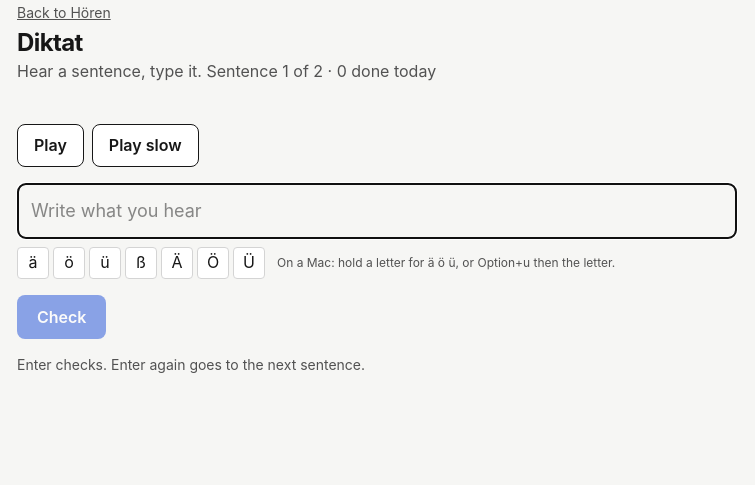
Test case: Diktat › keeps the result on screen when the refetch marks the sentence done
Expected: the text "Hear a sentence, type it. Sentence 1 of 2 · 0 done today" is shown, [17,59,436,84]
Type "Ich mochte" into the field labelled "Write what you hear" at (377, 211), box [17,183,737,239]
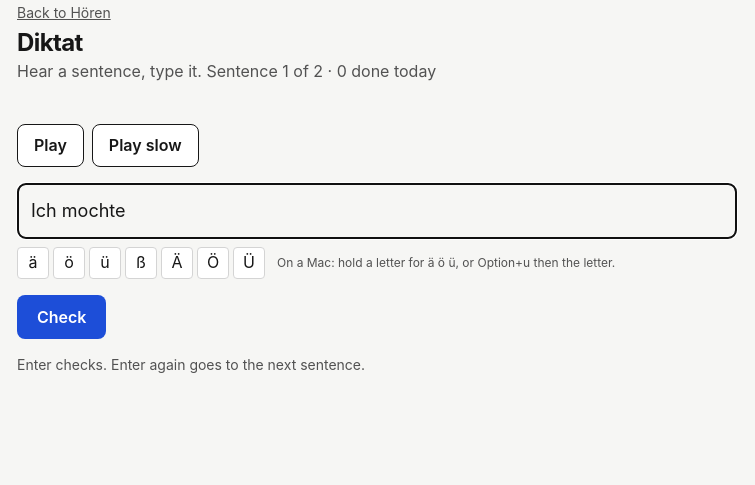
Click the button "Check" at (62, 317), box [17,295,106,339]
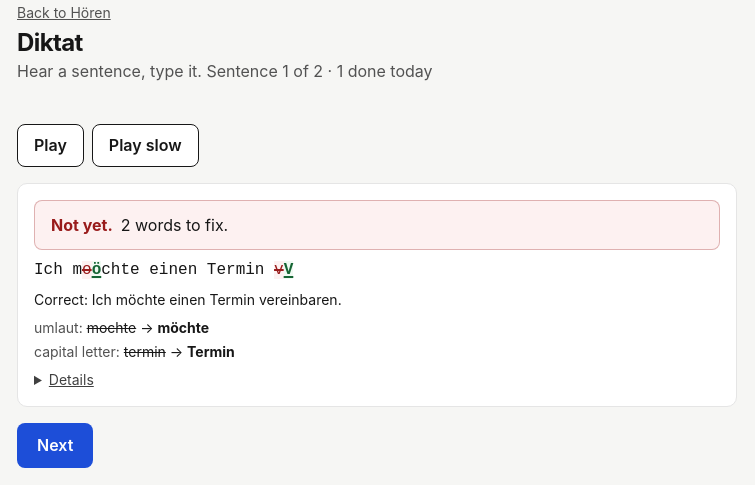
Expected: the text "Hear a sentence, type it. Sentence 1 of 2 · 1 done today" is shown, [17,59,433,84]
Expected: the text "2 words to fix." is shown, [121,215,228,235]
Click the button "Next" at (55, 446), box [17,423,93,468]
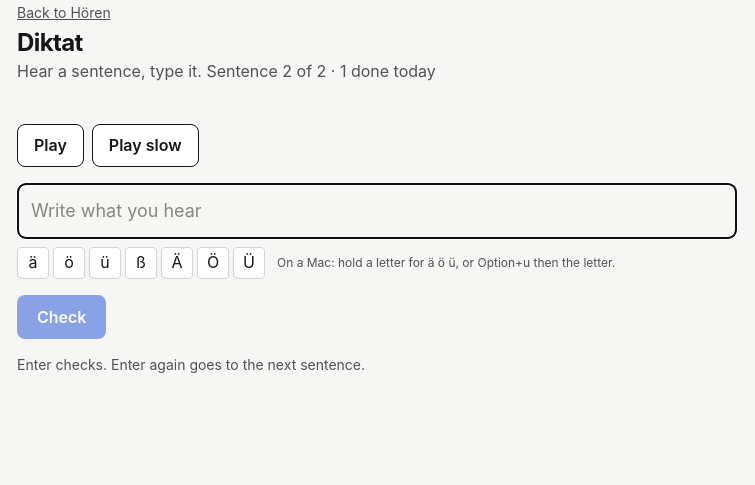
Expected: the text "Hear a sentence, type it. Sentence 2 of 2 · 1 done today" is shown, [17,59,436,84]
